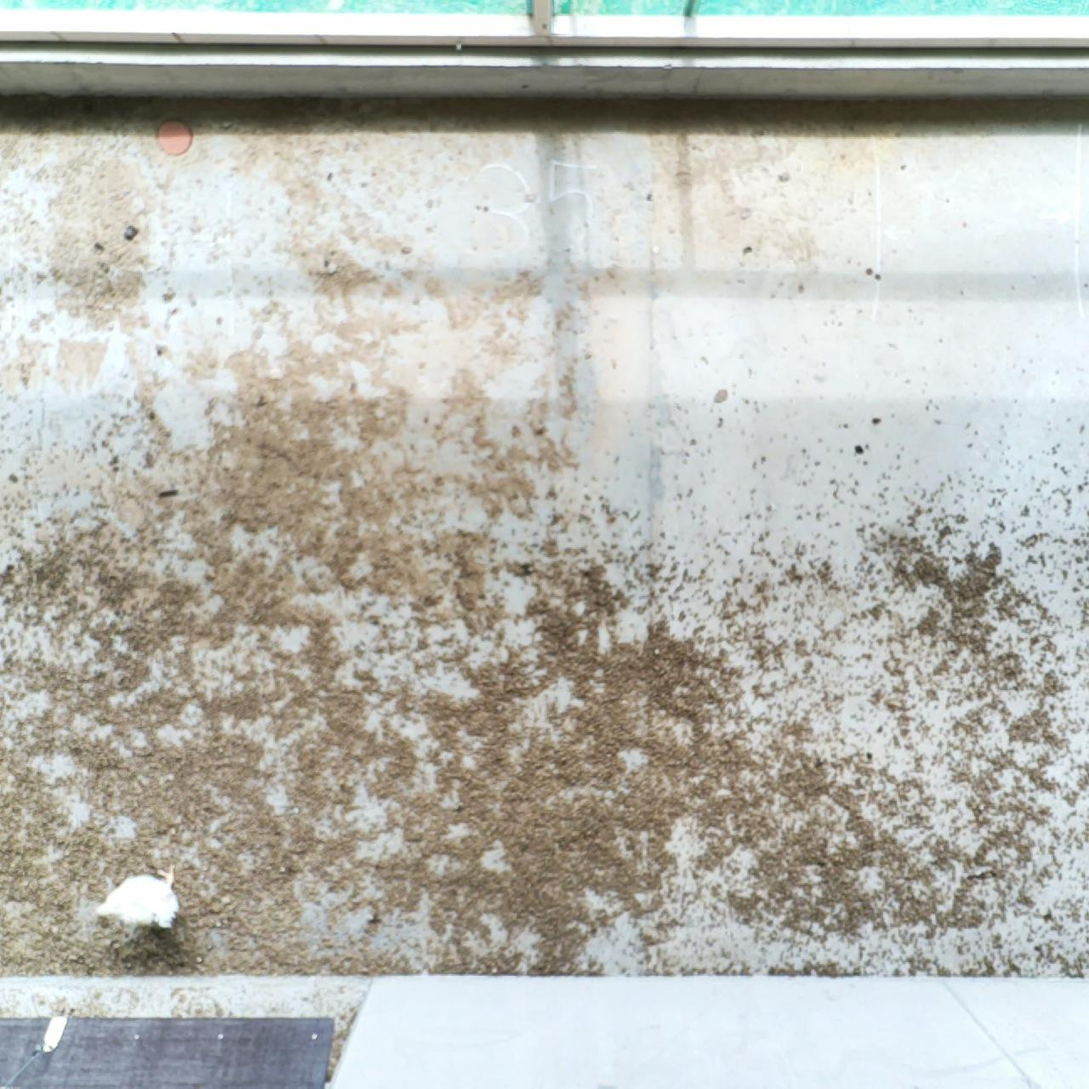chicken: (93, 864, 182, 931)
